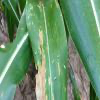Corn Gray leaf spot: (25, 1, 70, 99)
